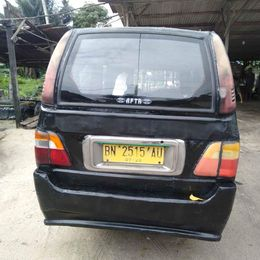plate: (101, 140, 167, 167)
